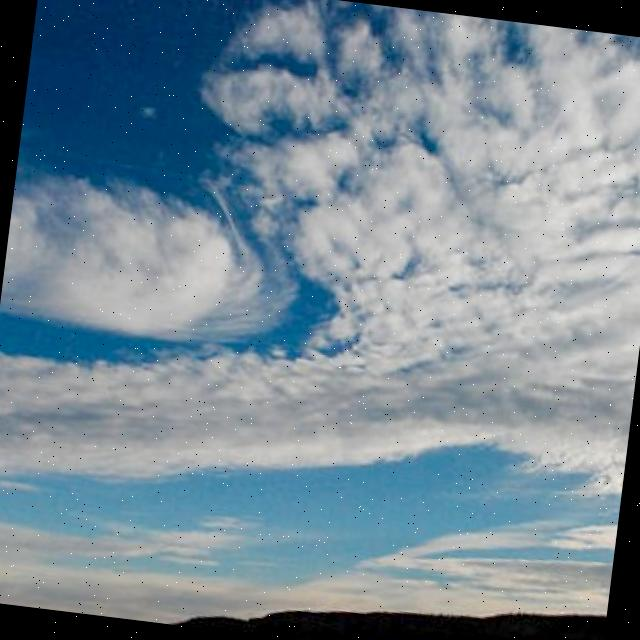St: (1, 139, 312, 395)
